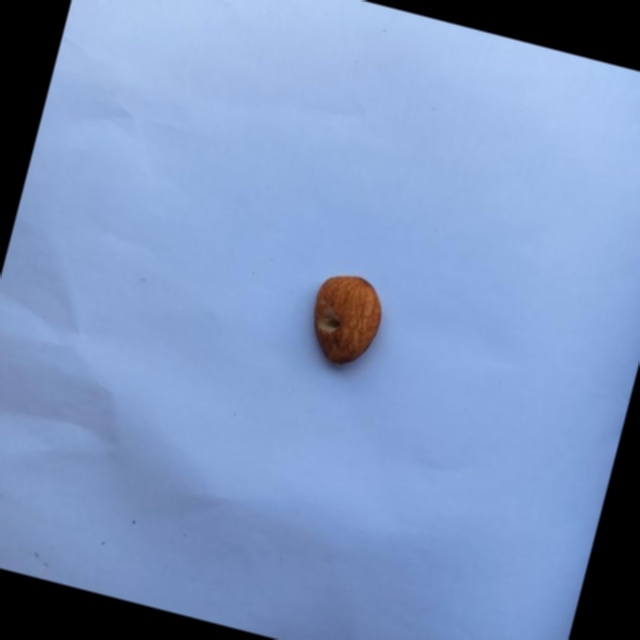grade3: (296, 263, 393, 377)
